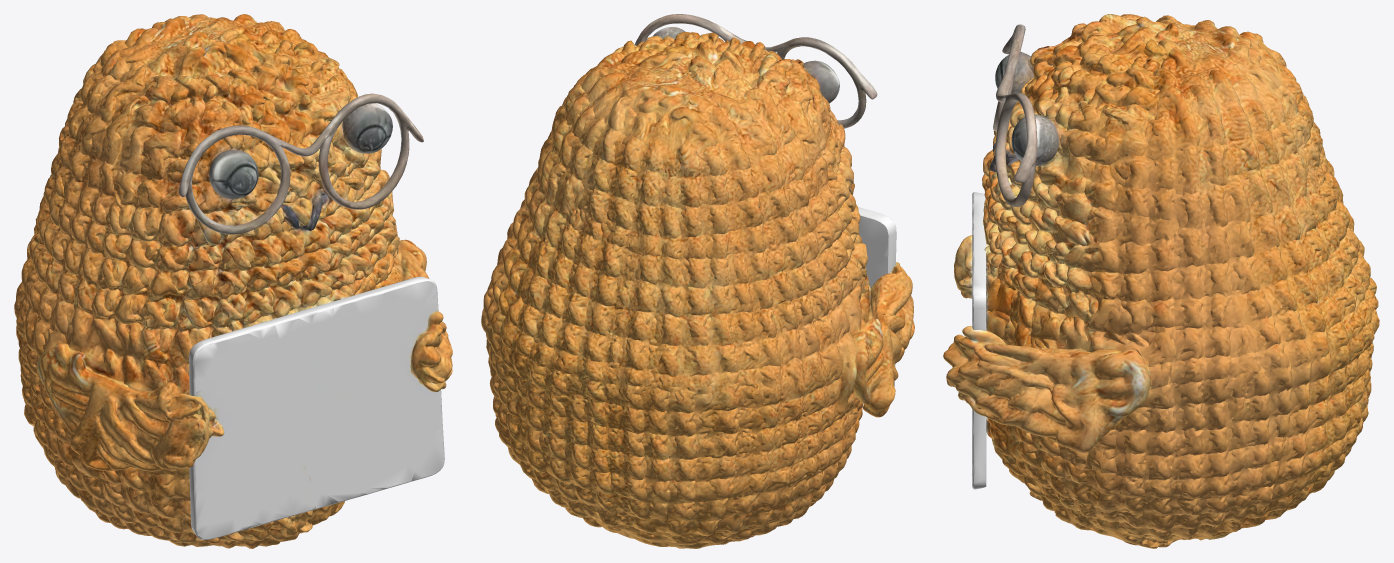
Rendered from spud-pbr.glb.
3 views of the same model, side by side, from view 1: azimuth 30°, elevation 25°; view 2: azimuth 150°, elevation 25°; view 3: azimuth 270°, elevation 25° (orthographic). The views are drawn at different scales.
Visible parts, largest first — view 1: body, card, handL, trim, handR, eyeR, eyeL; view 2: body, handL, trim, card, eyeL; view 3: body, handR, trim, card, eyeR, handL, eyeL.
Boxes of the visible parts, box(x1,y1,x2,y2) form: body: box(14, 14, 403, 548); card: box(189, 276, 444, 539); handL: box(40, 343, 224, 471); trim: box(178, 93, 423, 234); handR: box(399, 239, 452, 392); eyeR: box(342, 103, 392, 153); eyeL: box(209, 150, 258, 199); body: box(481, 32, 872, 548); handL: box(852, 262, 914, 417); trim: box(634, 14, 877, 128); card: box(858, 206, 896, 386); eyeL: box(804, 60, 839, 103); body: box(982, 14, 1379, 548); handR: box(943, 326, 1150, 452); trim: box(993, 24, 1037, 206); card: box(972, 192, 986, 489); eyeR: box(1011, 114, 1059, 166); handL: box(954, 235, 972, 298); eyeL: box(995, 52, 1033, 93).
Size of the model in its own units: 1.47 by 1.9 by 1.52.
7 materials, 7 textured.
